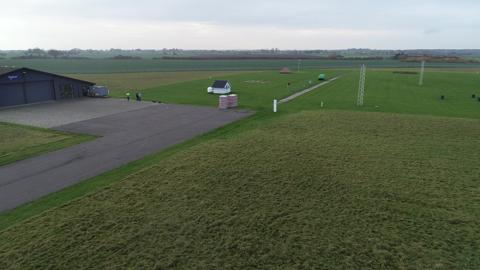RockwoolPallet: (226, 92, 237, 107)
